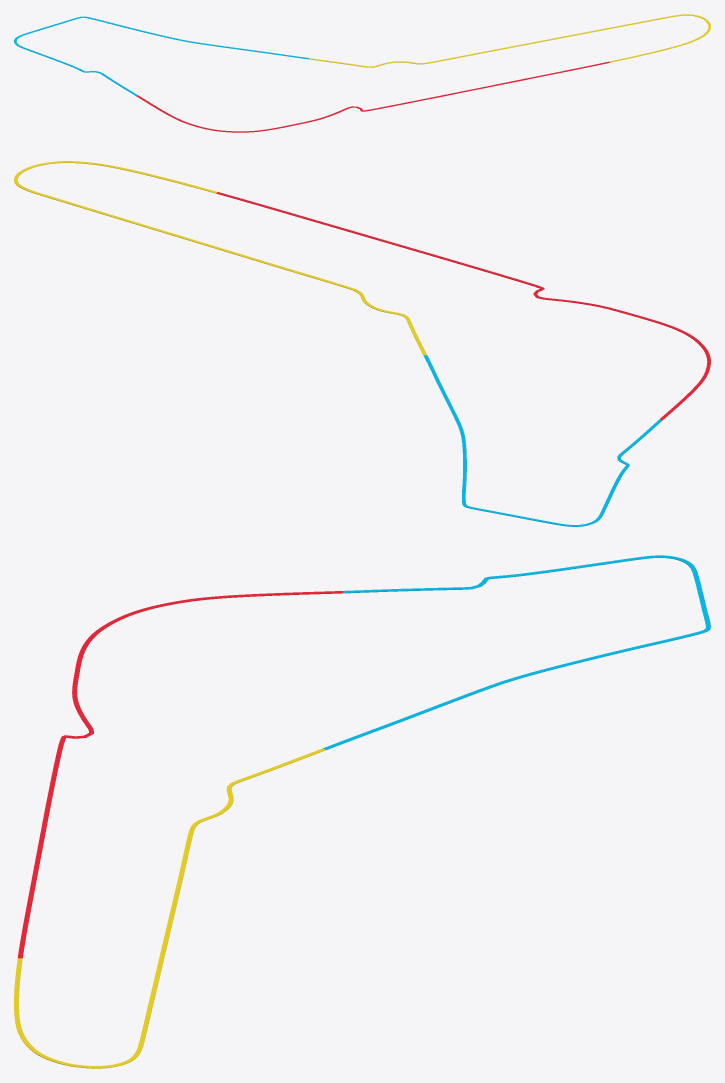
The model's file is MonzaSectors.glb.
3 renders of one model, top to bottom at view 1: azimuth 30°, elevation 25°; view 2: azimuth 150°, elevation 25°; view 3: azimuth 270°, elevation 25°, orthographic. The views are drawn at different scales.
Parts seen in each view (by area): view 1: SectorStrip_3, SectorStrip_1, SectorStrip_2; view 2: SectorStrip_3, SectorStrip_1, SectorStrip_2; view 3: SectorStrip_2, SectorStrip_3, SectorStrip_1.
Boxes of the visible parts, left/top/right/bottom form: SectorStrip_3: left=309, top=14, right=710, bottom=67; SectorStrip_1: left=136, top=61, right=609, bottom=132; SectorStrip_2: left=14, top=16, right=308, bottom=95; SectorStrip_3: left=14, top=161, right=426, bottom=355; SectorStrip_1: left=216, top=192, right=710, bottom=419; SectorStrip_2: left=423, top=355, right=662, bottom=526; SectorStrip_2: left=323, top=555, right=710, bottom=750; SectorStrip_3: left=14, top=748, right=325, bottom=1068; SectorStrip_1: left=17, top=591, right=343, bottom=958.
Size of the model in its own units: 15.91 by 0.006 by 9.14.
